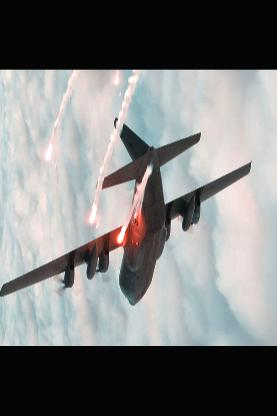Be200: (0, 117, 251, 306)
